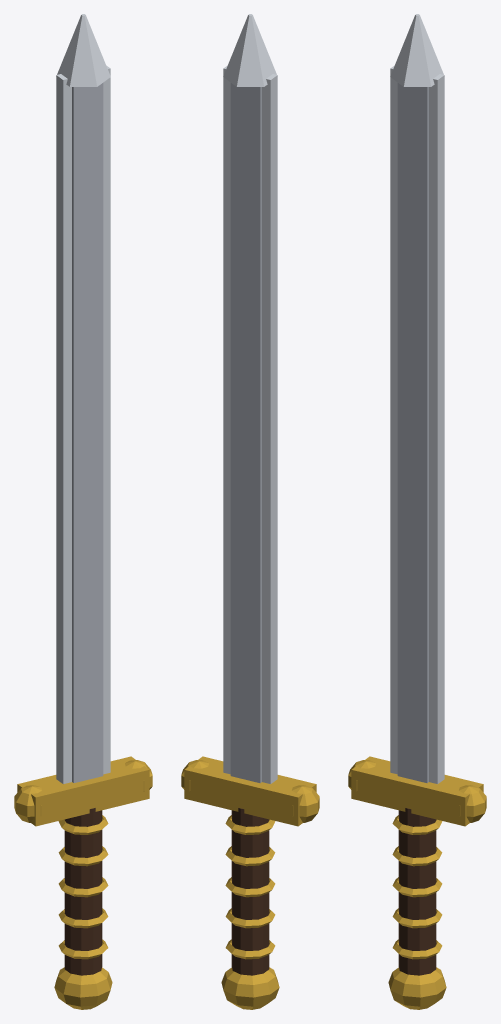
The model's file is sword.glb.
3 renders of one model, left to right at view 1: azimuth 30°, elevation 25°; view 2: azimuth 150°, elevation 25°; view 3: azimuth 330°, elevation 25°, orthographic.
Visible parts, largest first — view 1: sword; view 2: sword; view 3: sword.
Boxes of the visible parts, left/top/right/bottom form: sword: left=14, top=14, right=152, bottom=1009; sword: left=181, top=14, right=319, bottom=1009; sword: left=348, top=14, right=486, bottom=1009.
Size of the model in its own units: 0.1363 by 0.9578 by 0.052.
